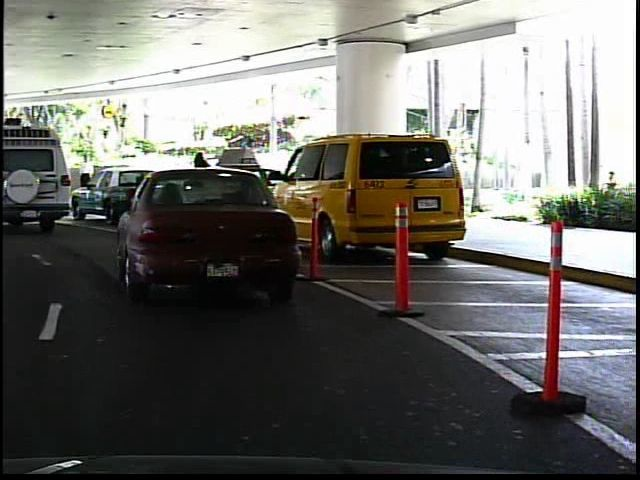person: (189, 145, 221, 212), (227, 141, 254, 212), (76, 149, 98, 202), (12, 158, 31, 195)
